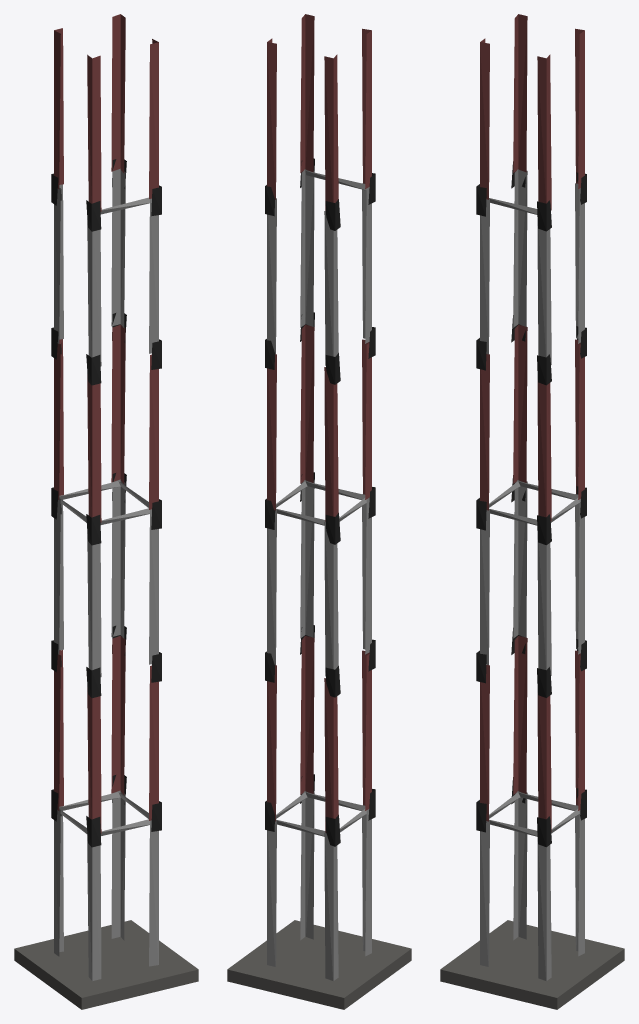
The model's file is radio-tower.lod2.glb.
3 views of the same model, side by side, from view 1: azimuth 30°, elevation 25°; view 2: azimuth 150°, elevation 25°; view 3: azimuth 330°, elevation 25° (orthographic).
Parts seen in each view (by area): view 1: PinoJuncao.004_PinoJuncao_0; view 2: PinoJuncao.004_PinoJuncao_0; view 3: PinoJuncao.004_PinoJuncao_0.
Part boxes in pixels (x1,y1,x2,y2): PinoJuncao.004_PinoJuncao_0: [14, 14, 198, 1009]; PinoJuncao.004_PinoJuncao_0: [227, 14, 411, 1009]; PinoJuncao.004_PinoJuncao_0: [440, 14, 624, 1009].
Size of the model in its own units: 5.03 by 38.37 by 5.03.
